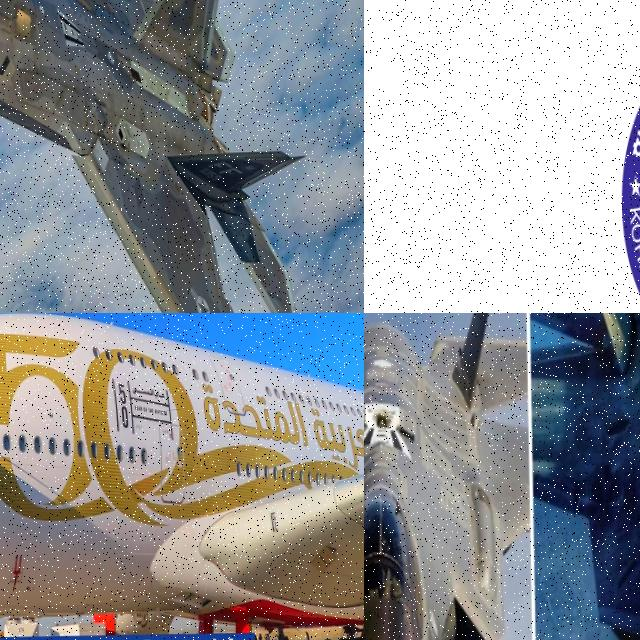A380: (0, 313, 364, 640)
F22: (0, 0, 304, 313), (364, 313, 538, 640), (528, 313, 640, 640)
